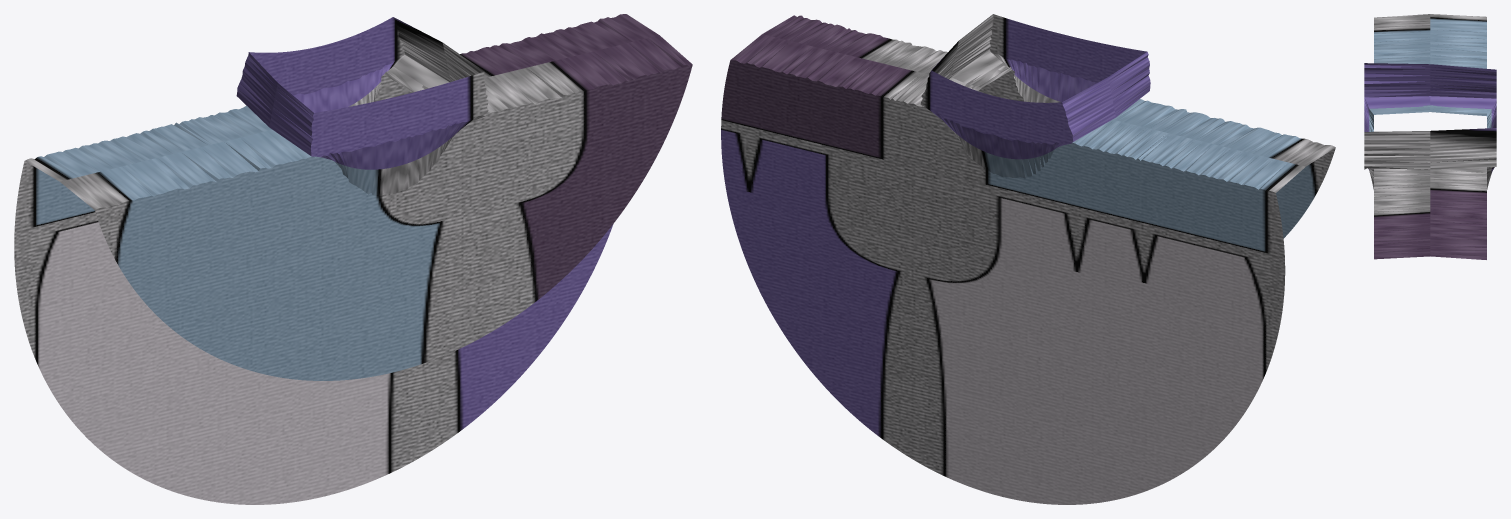
The model's file is valid_garment_lower_boxmesh.obj.
3 views of the same model, side by side, from view 1: azimuth 30°, elevation 25°; view 2: azimuth 150°, elevation 25°; view 3: azimuth 270°, elevation 25° (orthographic). The views are drawn at different scales.
Bounding box in the file's own units: 158 × 111 × 35.
